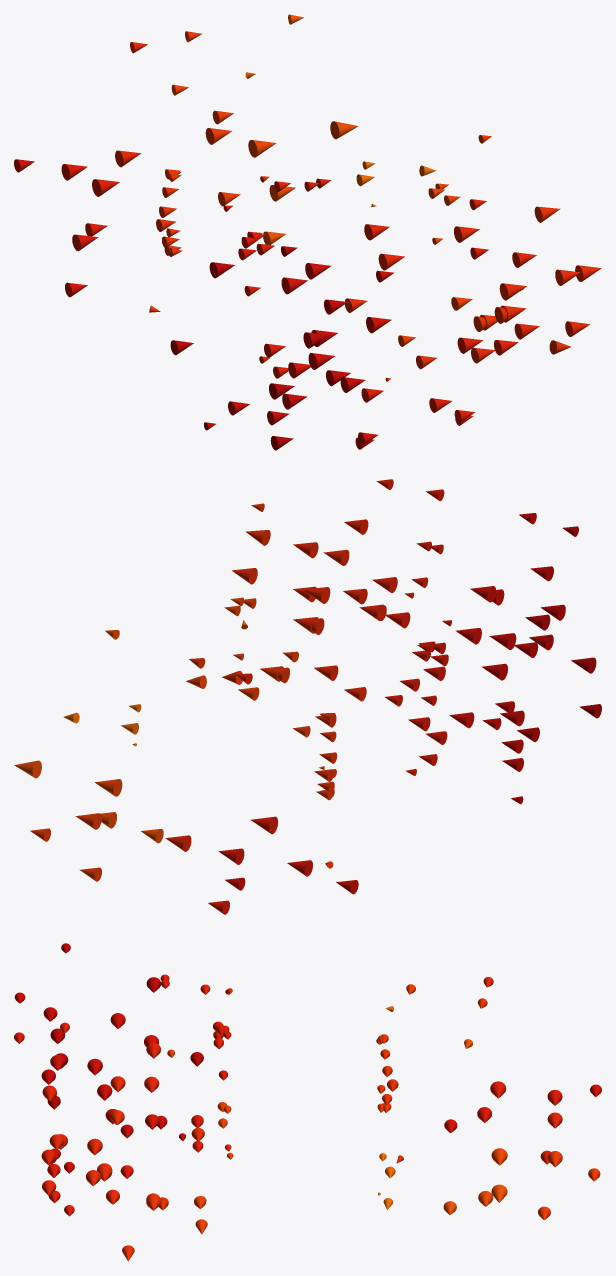
The model's file is LineasCorrienteH2-O2_mh2-2.70_V-1.1.glb.
The picture shows the model from 3 angles, top to bottom: view 1: azimuth 30°, elevation 25°; view 2: azimuth 150°, elevation 25°; view 3: azimuth 270°, elevation 25°; orthographic projection. The views are drawn at different scales.
Bounding box in the file's own units: 0.000787 × 0.000488 × 0.00123.
Materials: 2 (2 with a texture image).
